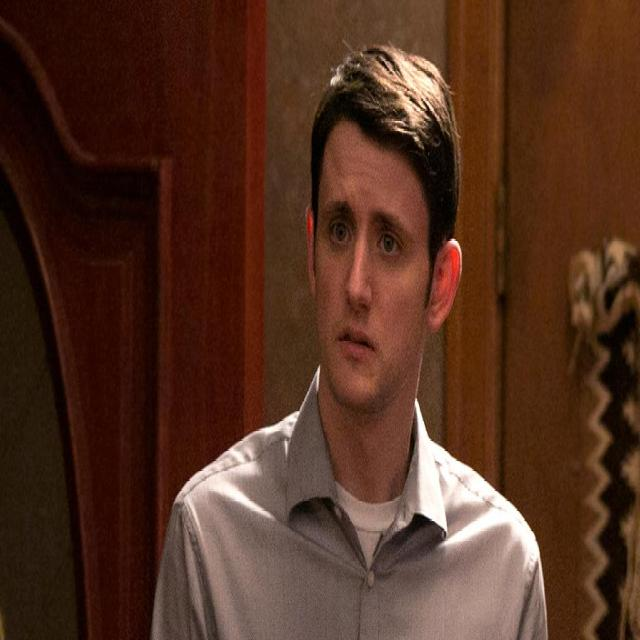Face: (300, 111, 442, 394)
